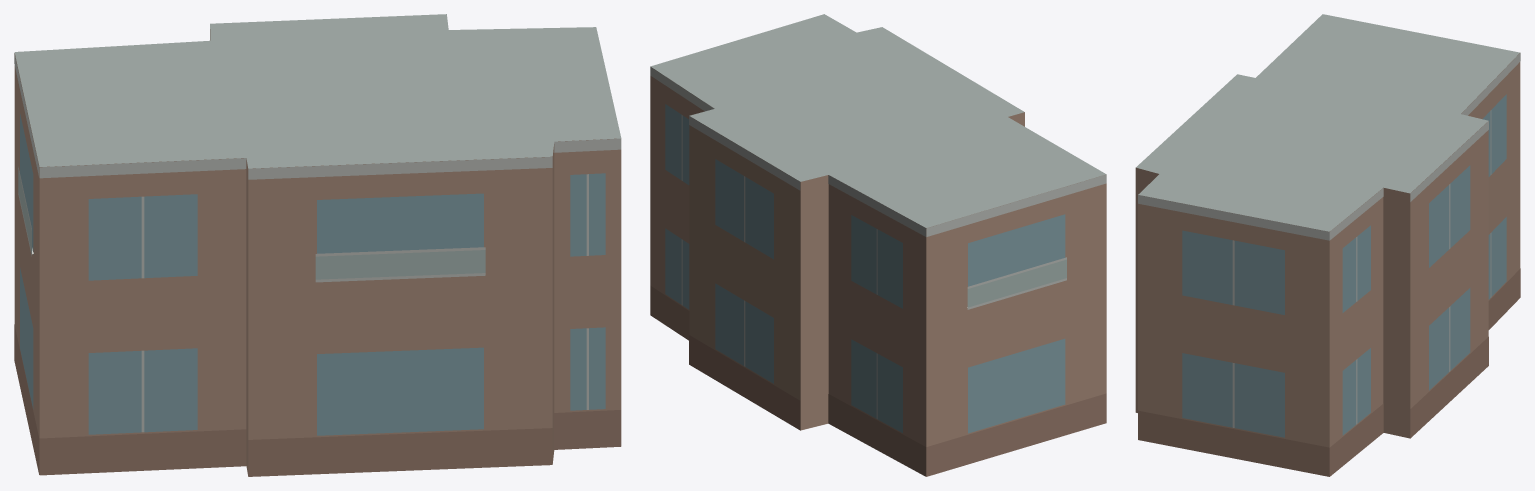
The model's file is survey-upis-32491077.glb.
The picture shows the model from 3 angles, left to right: view 1: azimuth 30°, elevation 25°; view 2: azimuth 150°, elevation 25°; view 3: azimuth 270°, elevation 25°; orthographic projection. The views are drawn at different scales.
Visible parts, largest first — view 1: survey-upis-32491077.tmp; view 2: survey-upis-32491077.tmp; view 3: survey-upis-32491077.tmp.
Part boxes in pixels (x1,y1,x2,y2): survey-upis-32491077.tmp: (14,14,621,476); survey-upis-32491077.tmp: (650,14,1106,476); survey-upis-32491077.tmp: (1135,14,1520,476).
Bounding box in the file's own units: 12.77 × 6.7 × 9.54.
